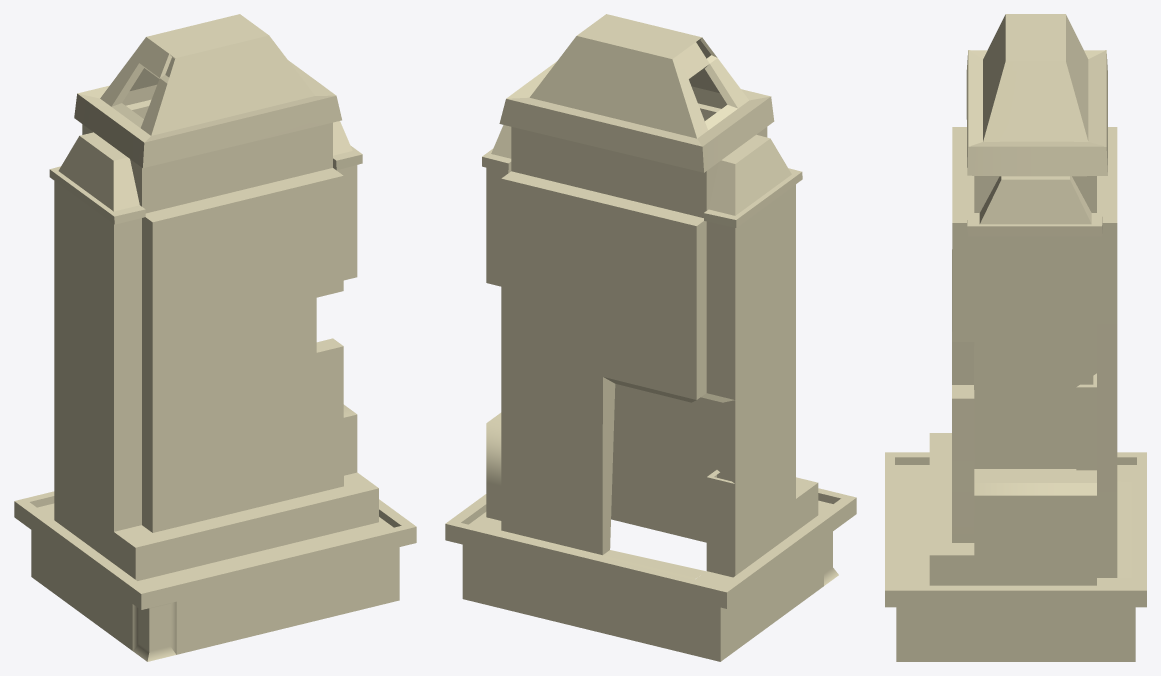
Rendered from destroyed building 2.fbx.
3 views of the same model, side by side, from view 1: azimuth 30°, elevation 25°; view 2: azimuth 150°, elevation 25°; view 3: azimuth 270°, elevation 25° (orthographic). The views are drawn at different scales.
Visible parts, largest first — view 1: immeuble_3:immeuble_3_LD1; view 2: immeuble_3:immeuble_3_LD1; view 3: immeuble_3:immeuble_3_LD1.
Boxes of the visible parts, x1,y1,x2,y2 form: immeuble_3:immeuble_3_LD1: (14,14,416,661); immeuble_3:immeuble_3_LD1: (445,14,856,661); immeuble_3:immeuble_3_LD1: (885,14,1146,661).
Bounding box in the file's own units: 12669 × 23948 × 10108.
